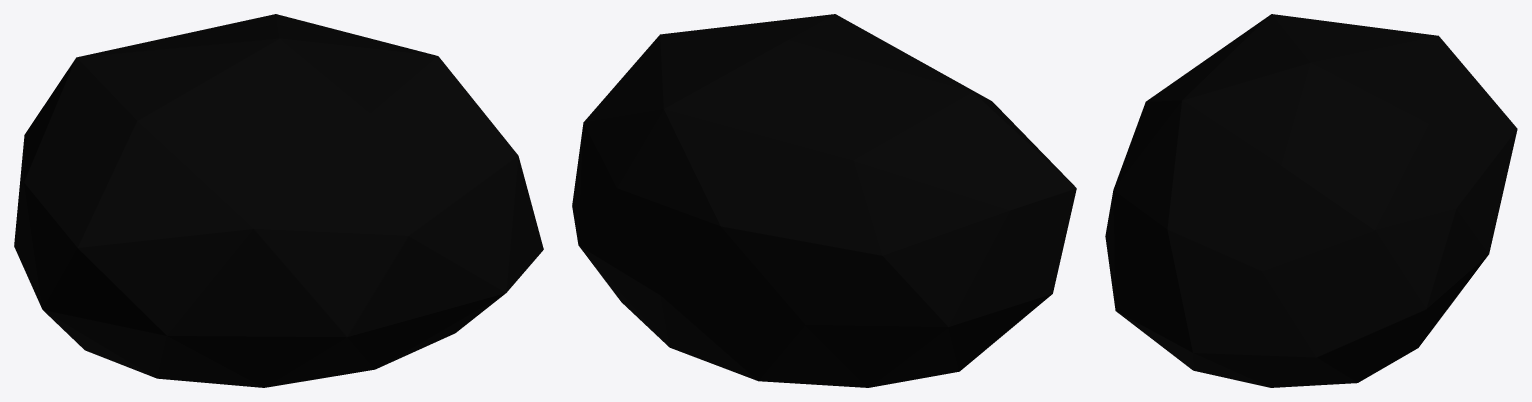
Rendered from bush_big.fbx.
3 views of the same model, side by side, from view 1: azimuth 30°, elevation 25°; view 2: azimuth 150°, elevation 25°; view 3: azimuth 270°, elevation 25° (orthographic). The views are drawn at different scales.
Visible parts, largest first — view 1: bush_big; view 2: bush_big; view 3: bush_big.
Boxes of the visible parts, left/top/right/bottom form: bush_big: left=14, top=14, right=543, bottom=387; bush_big: left=572, top=14, right=1076, bottom=387; bush_big: left=1105, top=14, right=1517, bottom=387.
Bounding box in the file's own units: 75.94 × 43.74 × 63.17.
